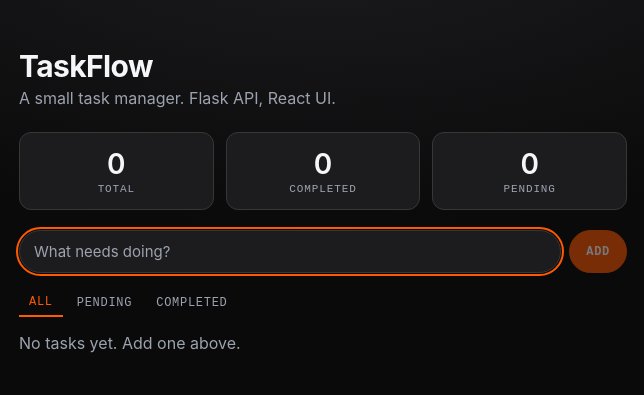
Test: App › shows the server's validation message inline when creation fails
Check: the text "No tasks yet. Add one above." is shown, box [19,333,241,353]
In the field named "New task title": (290, 252) [19,230,561,273], type "x"
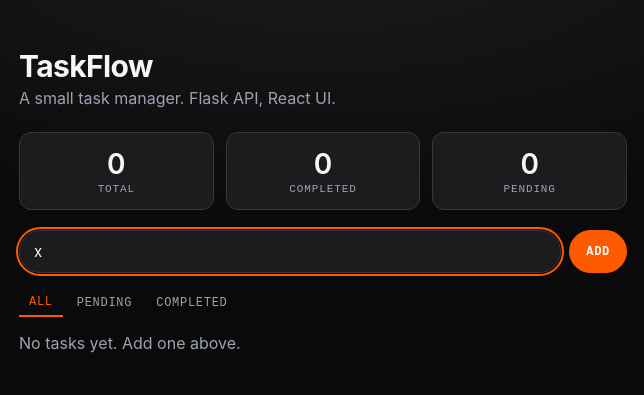
Click the button "Add": (598, 252) [569,230,627,273]
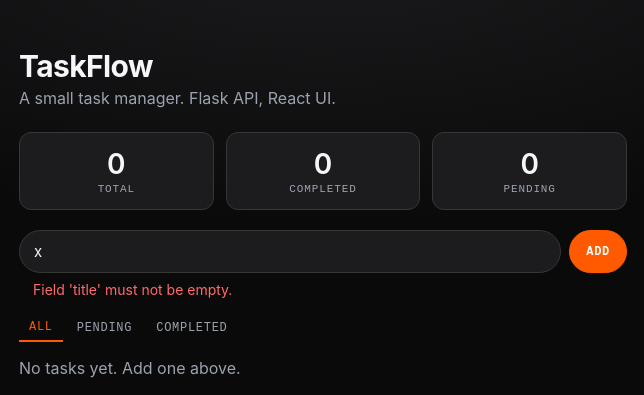
Check: the message reads "Field 'title' must not be empty.", box [33,281,232,298]
